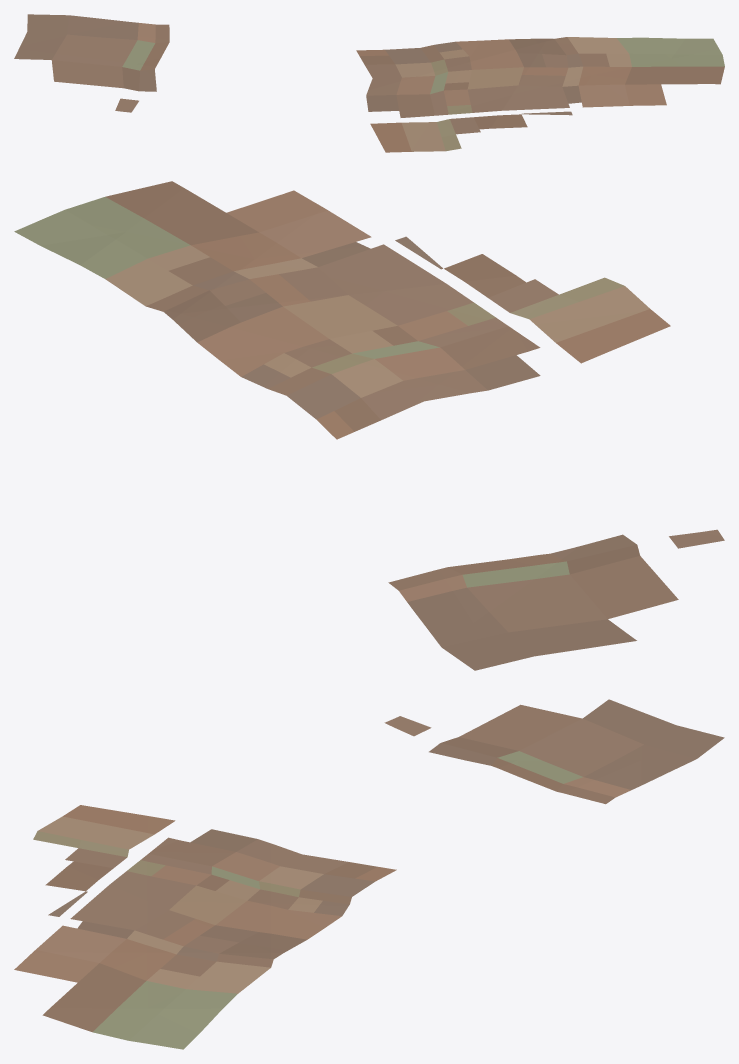
Rendered from farm_25_14_soil.glb.
3 renders of one model, top to bottom at view 1: azimuth 30°, elevation 25°; view 2: azimuth 150°, elevation 25°; view 3: azimuth 270°, elevation 25°, orthographic. The views are drawn at different scales.
Visible parts, largest first — view 1: geometry_0; view 2: geometry_0; view 3: geometry_0.
Part boxes in pixels (x1,y1,x2,y2): geometry_0: [14, 14, 724, 152]; geometry_0: [14, 181, 724, 670]; geometry_0: [14, 699, 724, 1049].
Bounding box in the file's own units: 545 × 12.86 × 460.
